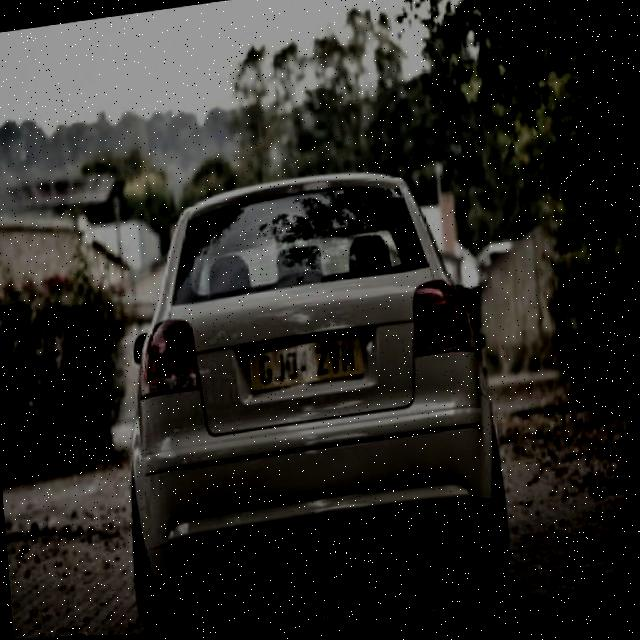license_plate: (250, 338, 369, 393)
